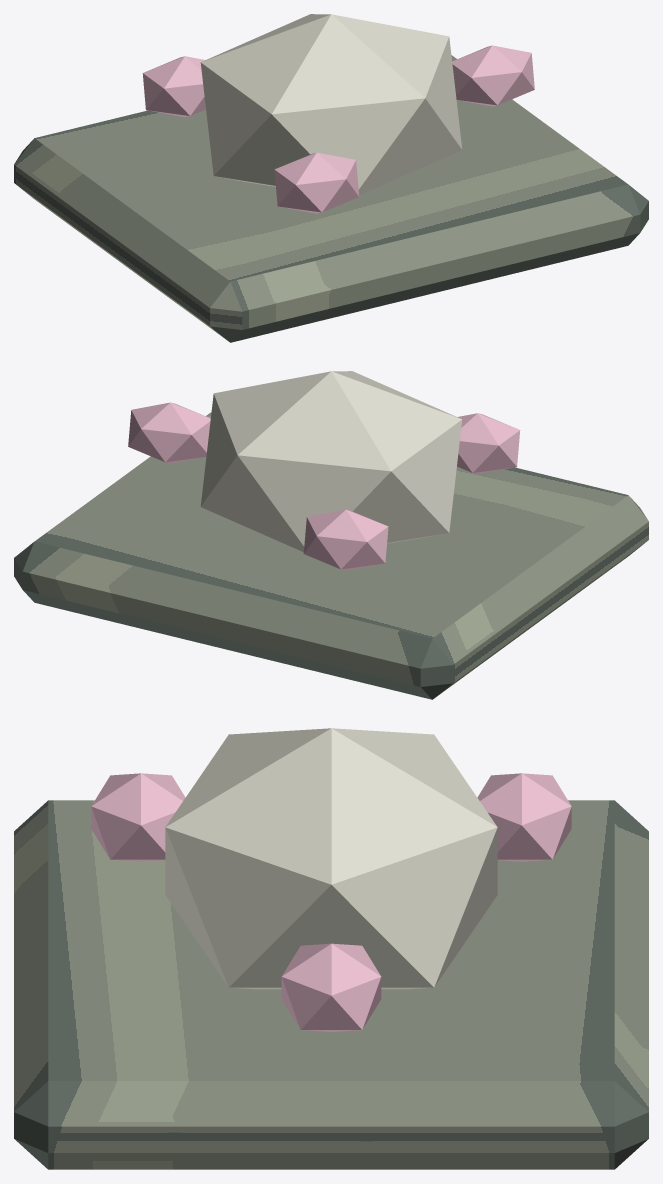
File: stone_rose_helped.glb
3 views of the same model, one above another, from view 1: azimuth 30°, elevation 25°; view 2: azimuth 150°, elevation 25°; view 3: azimuth 270°, elevation 25° (orthographic). The views are drawn at different scales.
Visible parts, largest first — view 1: Rose_plinth.001, Stone_rose.001, Blossom.002, Blossom, Blossom.001; view 2: Rose_plinth.001, Stone_rose.001, Blossom.001, Blossom, Blossom.002; view 3: Rose_plinth.001, Stone_rose.001, Blossom, Blossom.001, Blossom.002.
Part boxes in pixels (left/top/right/bottom): Rose_plinth.001: left=14, top=55, right=648, bottom=342; Stone_rose.001: left=200, top=14, right=462, bottom=195; Blossom.002: left=274, top=152, right=359, bottom=213; Blossom: left=452, top=45, right=534, bottom=106; Blossom.001: left=142, top=56, right=205, bottom=117; Rose_plinth.001: left=14, top=412, right=648, bottom=699; Stone_rose.001: left=200, top=371, right=462, bottom=552; Blossom.001: left=303, top=509, right=388, bottom=570; Blossom: left=128, top=402, right=210, bottom=463; Blossom.002: left=457, top=413, right=520, bottom=474; Rose_plinth.001: left=14, top=800, right=648, bottom=1169; Stone_rose.001: left=165, top=728, right=497, bottom=989; Blossom: left=281, top=943, right=381, bottom=1032; Blossom.001: left=477, top=773, right=571, bottom=861; Blossom.002: left=91, top=773, right=185, bottom=861.
Bounding box in the file's own units: 1.5 × 0.68 × 1.3.
3 materials, 1 textured.
